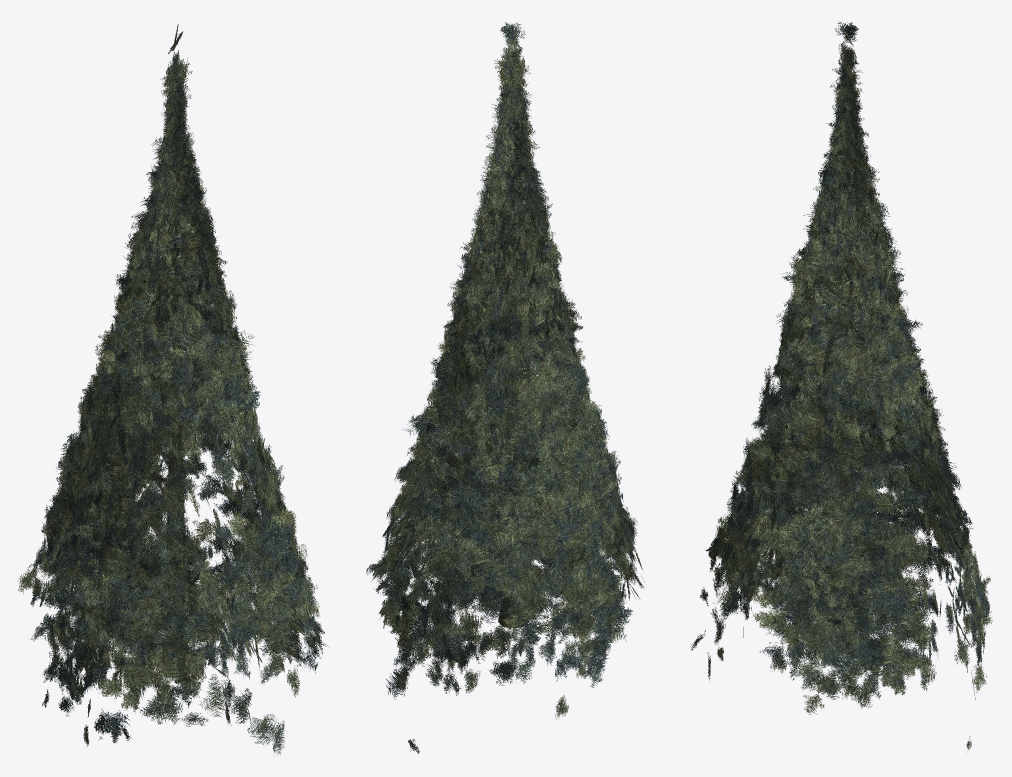
File: spruce-spire-conifer.glb
3 views of the same model, side by side, from view 1: azimuth 30°, elevation 25°; view 2: azimuth 150°, elevation 25°; view 3: azimuth 270°, elevation 25° (orthographic). The views are drawn at different scales.
Parts seen in each view (by area): view 1: canopy, trunk; view 2: canopy, trunk; view 3: canopy.
Part boxes in pixels (bbox=[...]): canopy: bbox=[18, 24, 327, 756]; trunk: bbox=[161, 267, 191, 677]; canopy: bbox=[366, 22, 645, 753]; trunk: bbox=[498, 318, 528, 628]; canopy: bbox=[691, 21, 992, 749].
Bounding box in the file's own units: 2.49 × 6.96 × 2.77.
Materials: 2 (2 with a texture image).
